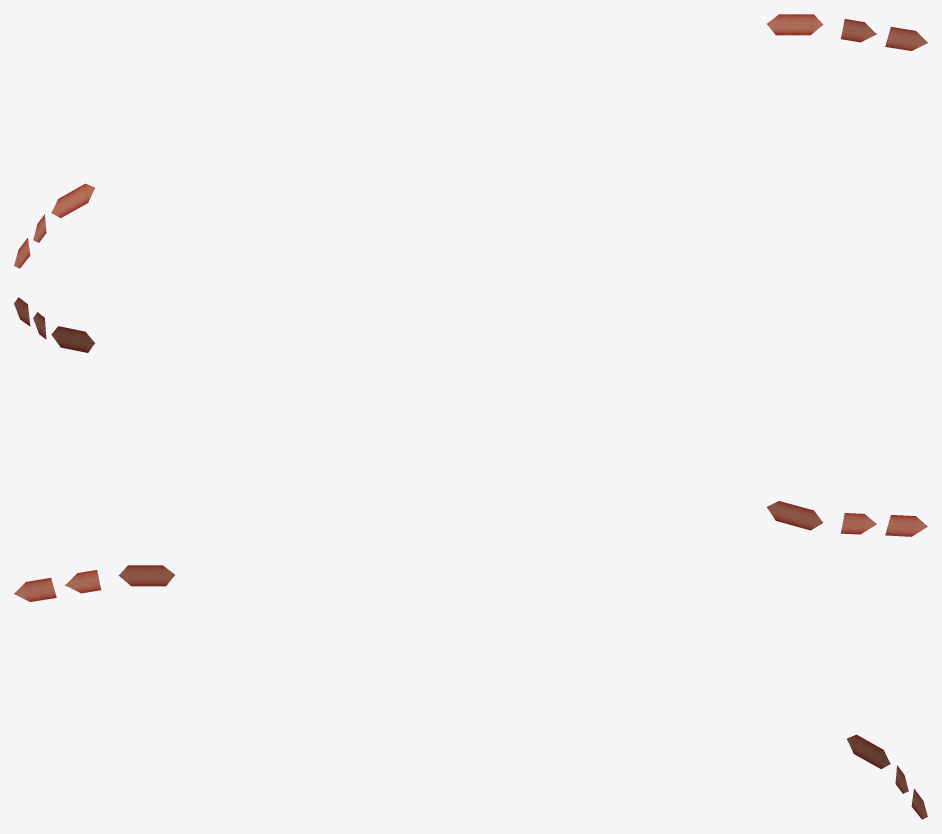
Rendered from vt49_booster_s02_on_l2.fbx.
3 views of the same model, one above another, from view 1: azimuth 30°, elevation 25°; view 2: azimuth 150°, elevation 25°; view 3: azimuth 330°, elevation 25° (orthographic).
Visible parts, largest first — view 1: mesh_node; view 2: mesh_node; view 3: mesh_node.
Boxes of the visible parts, x1=… form: mesh_node: x1=14, y1=14, x2=927, y2=268; mesh_node: x1=14, y1=297, x2=927, y2=536; mesh_node: x1=14, y1=565, x2=927, y2=819.
Bounding box in the file's own units: 30.46 × 1.16 × 2.31.
Materials: 1 (1 with a texture image).
